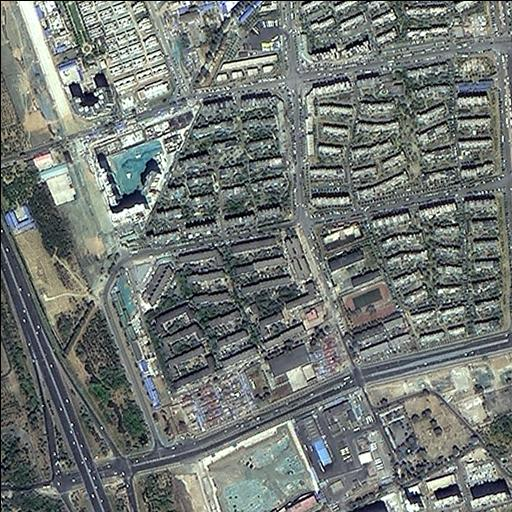school: (325, 242, 396, 328)
